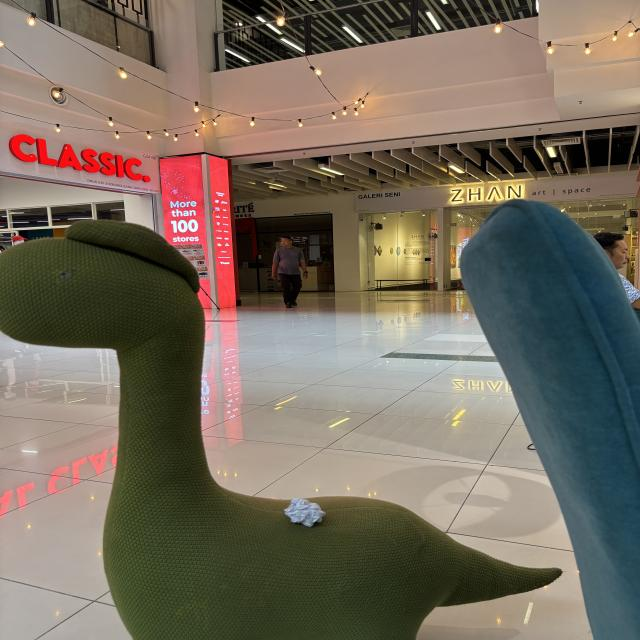crumpled_paper: (281, 496, 329, 528)
